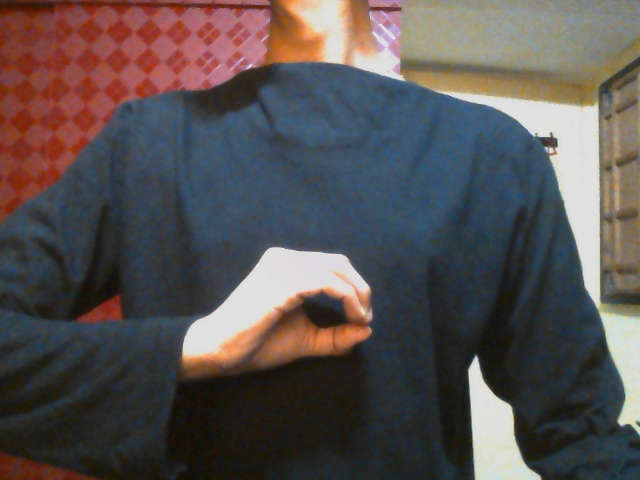O: (216, 246, 375, 377)
